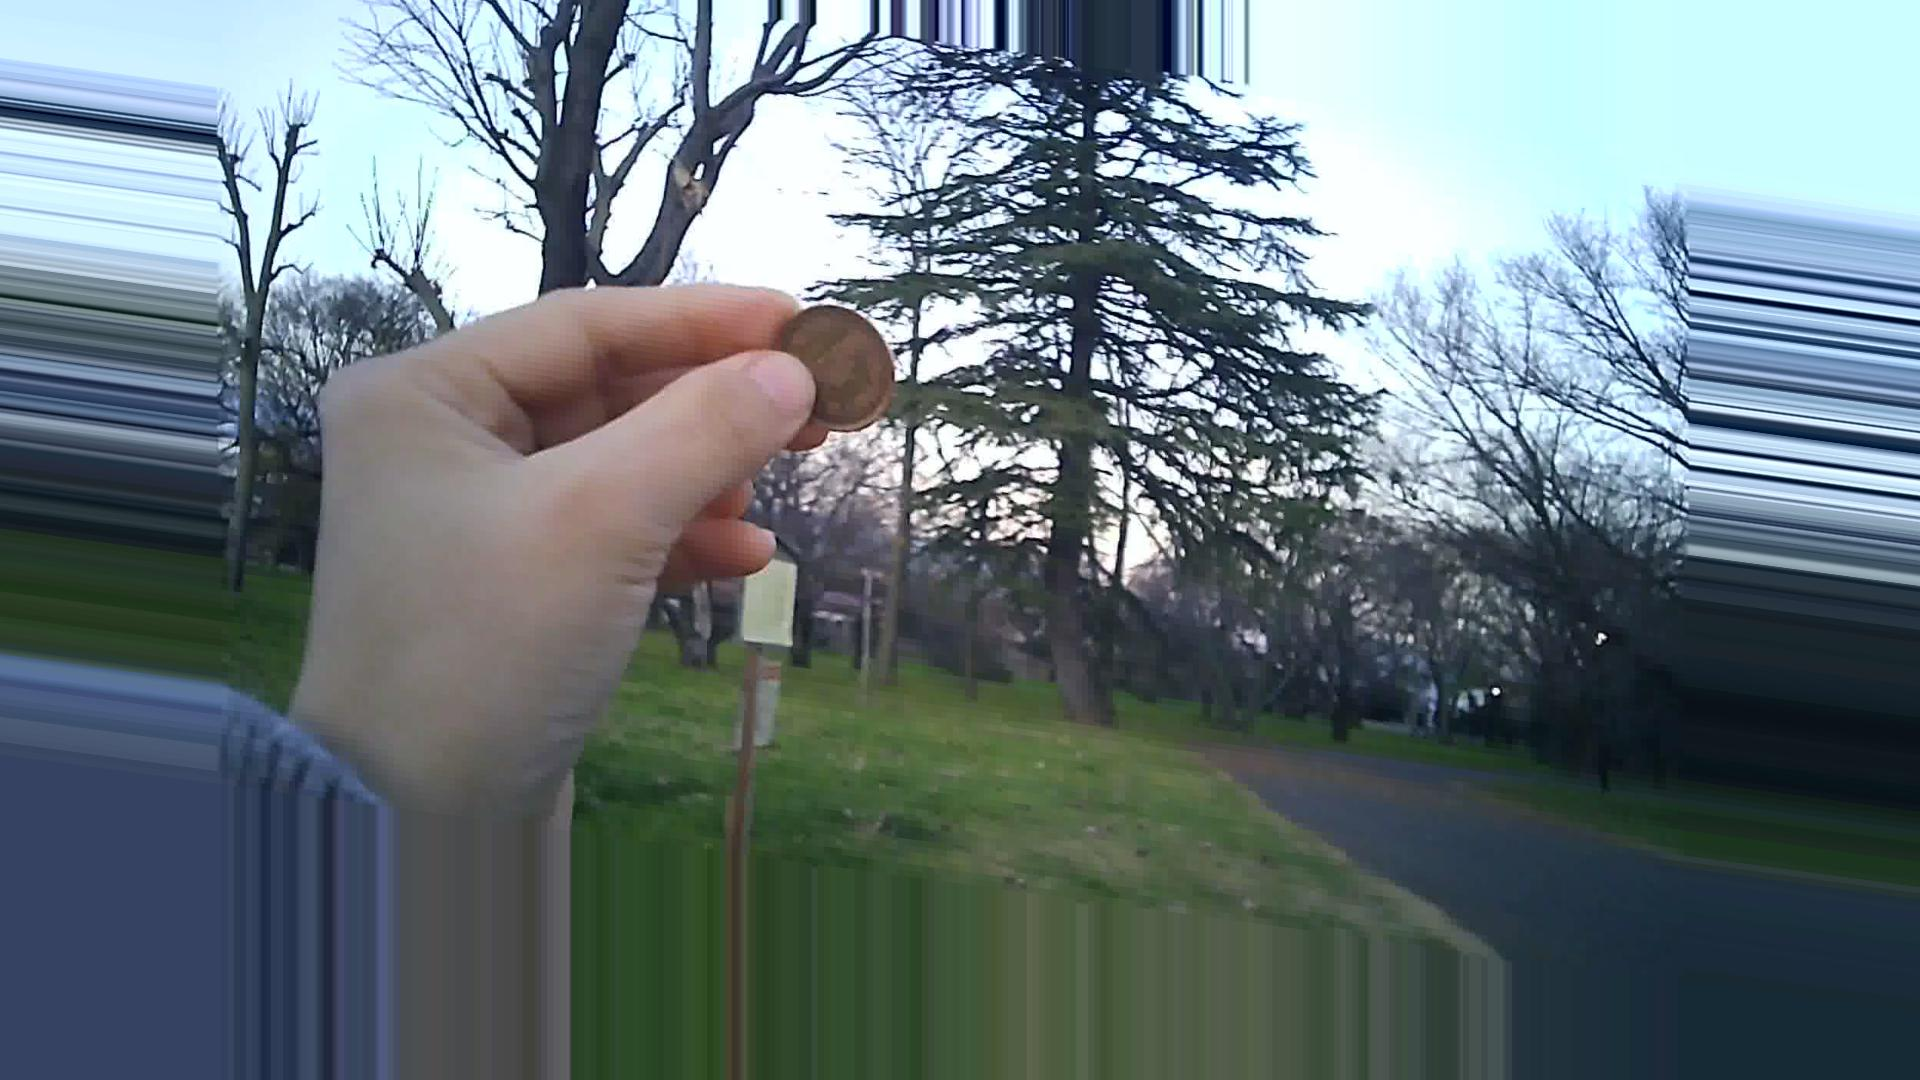10 Yen: (769, 295, 891, 439)
